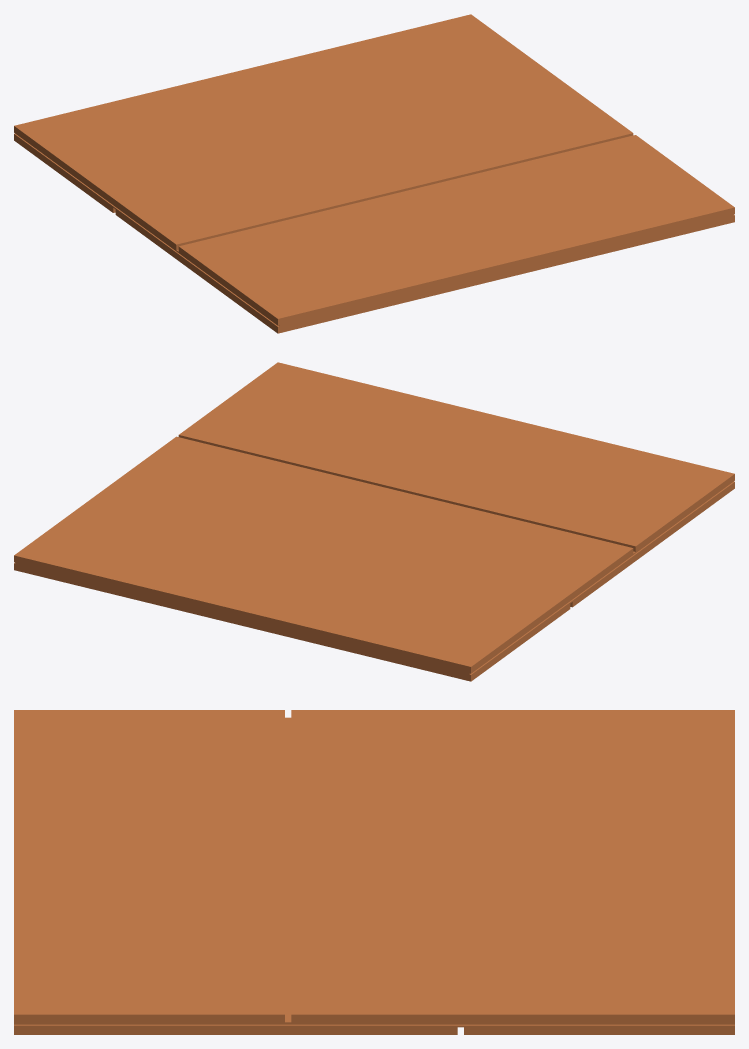
Rendered from Cardboard_Box_Flat.fbx.
3 renders of one model, top to bottom at view 1: azimuth 30°, elevation 25°; view 2: azimuth 150°, elevation 25°; view 3: azimuth 270°, elevation 25°, orthographic. The views are drawn at different scales.
Visible parts, largest first — view 1: Cube; view 2: Cube; view 3: Cube.
Part boxes in pixels (left/top/right/bottom): Cube: left=14, top=14, right=734, bottom=333; Cube: left=14, top=362, right=734, bottom=681; Cube: left=14, top=710, right=734, bottom=1034.
Bounding box in the file's own units: 308 × 9.48 × 308.
